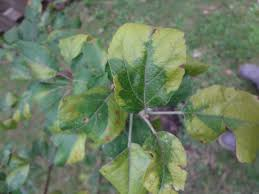Diseased_Leaves: (199, 90, 257, 132), (115, 29, 149, 75), (150, 147, 180, 190), (54, 37, 97, 66), (58, 91, 93, 125), (64, 140, 88, 157), (107, 109, 121, 135)
